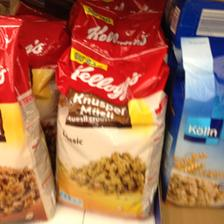Cerealien: (52, 58, 168, 218), (165, 40, 223, 208)
